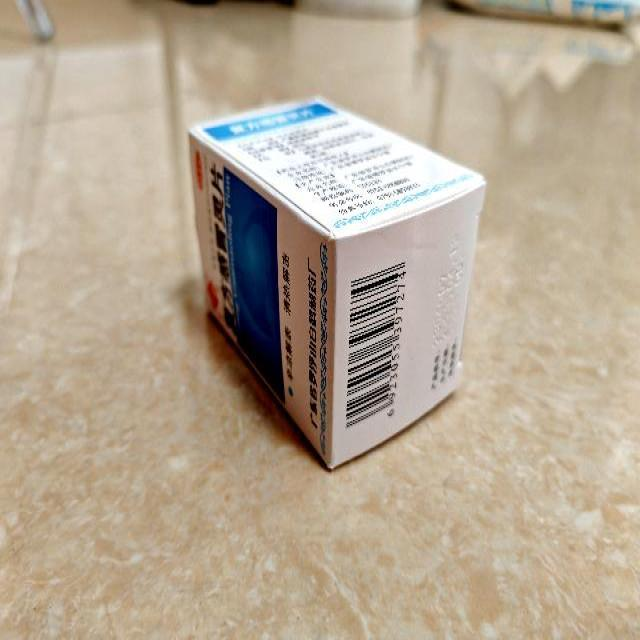box: (188, 96, 486, 472)
